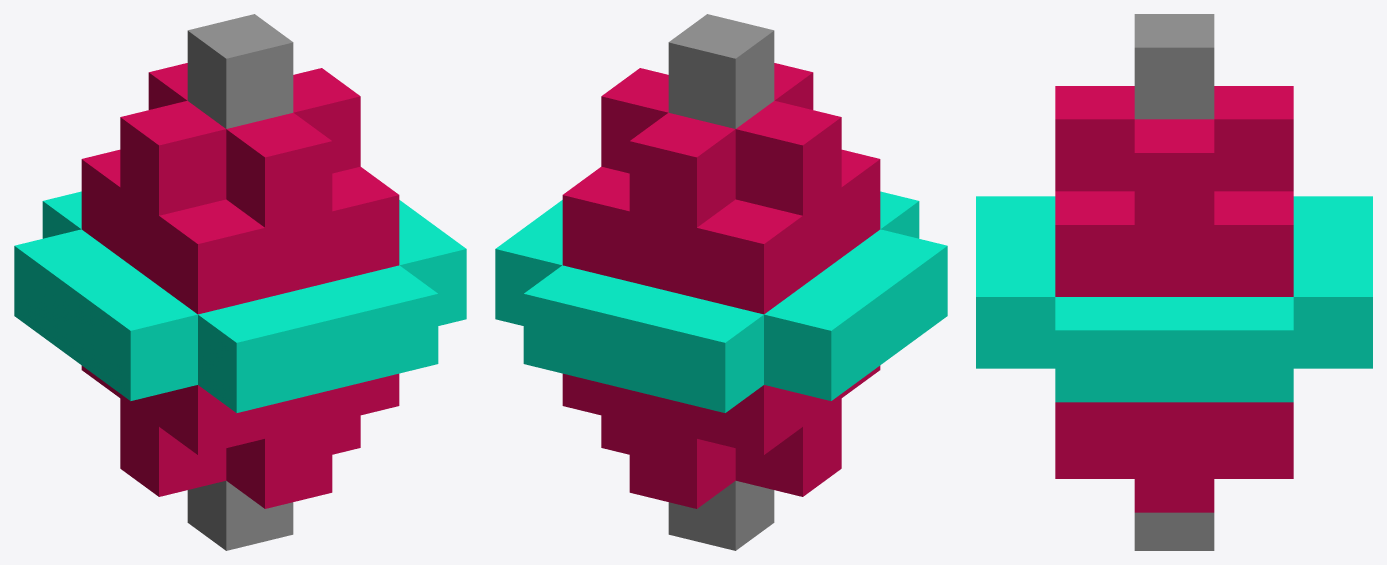
Rendered from illusionpart.dae.
The picture shows the model from 3 angles, left to right: view 1: azimuth 30°, elevation 25°; view 2: azimuth 150°, elevation 25°; view 3: azimuth 270°, elevation 25°; orthographic projection. The views are drawn at different scales.
Visible parts, largest first — view 1: illusionpart; view 2: illusionpart; view 3: illusionpart.
Boxes of the visible parts, x1=… form: illusionpart: x1=14, y1=14, x2=466, y2=550; illusionpart: x1=495, y1=14, x2=947, y2=550; illusionpart: x1=976, y1=14, x2=1372, y2=550.
Size of the model in its own units: 5 by 7 by 5.
Materials: 1 (1 with a texture image).
